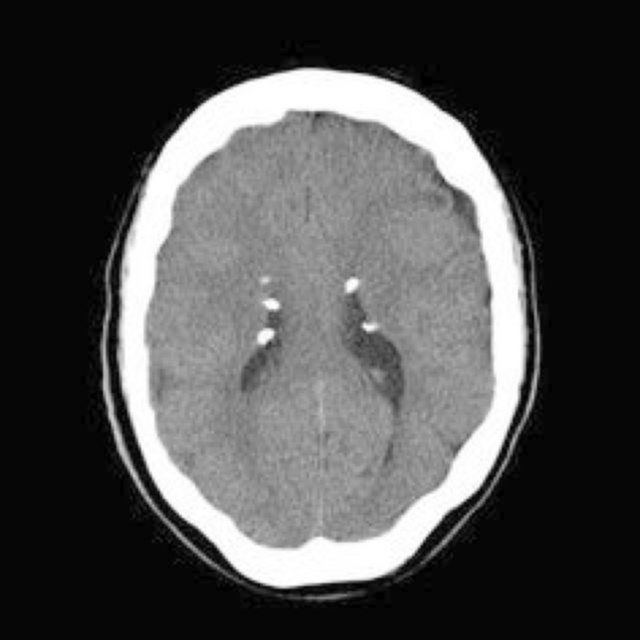glioma tumor: (179, 111, 437, 515)
